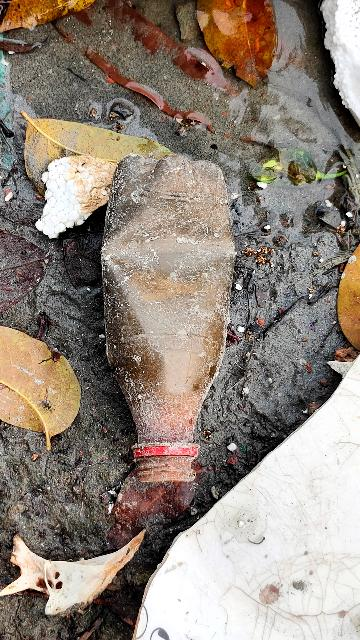bottle: (67, 149, 267, 489)
